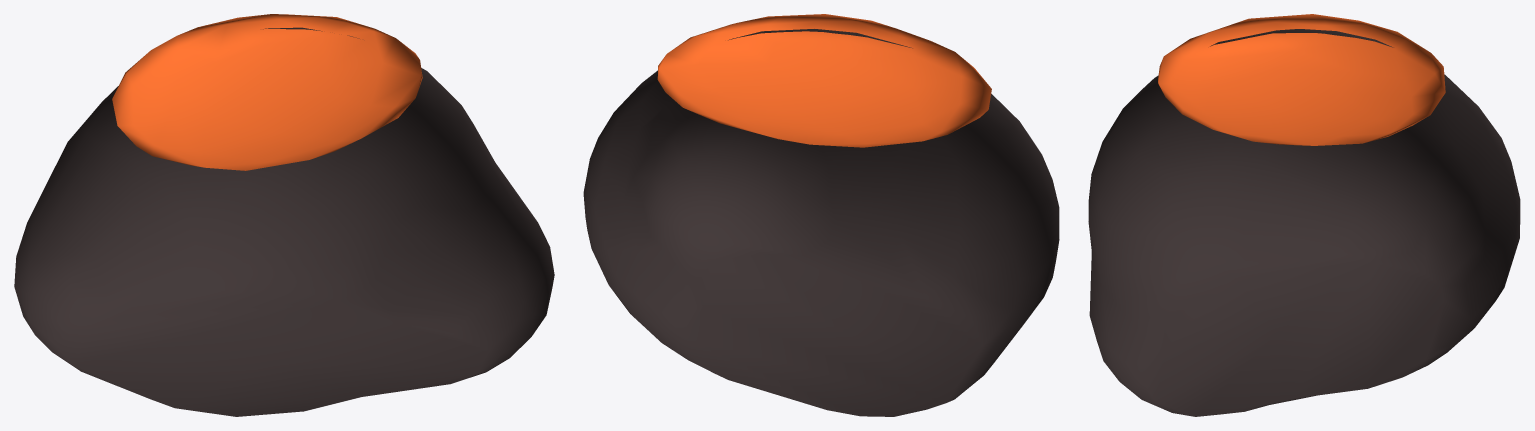
Rendered from lm_lava_rock.glb.
3 views of the same model, side by side, from view 1: azimuth 30°, elevation 25°; view 2: azimuth 150°, elevation 25°; view 3: azimuth 270°, elevation 25° (orthographic). The views are drawn at different scales.
Visible parts, largest first — view 1: body; view 2: body; view 3: body.
Boxes of the visible parts, x1,y1,x2,y2 form: body: [14, 14, 554, 416]; body: [583, 14, 1059, 416]; body: [1088, 14, 1520, 416].
Bounding box in the file's own units: 1.94 × 1.31 × 1.72.
Materials: 1 (1 with a texture image).
